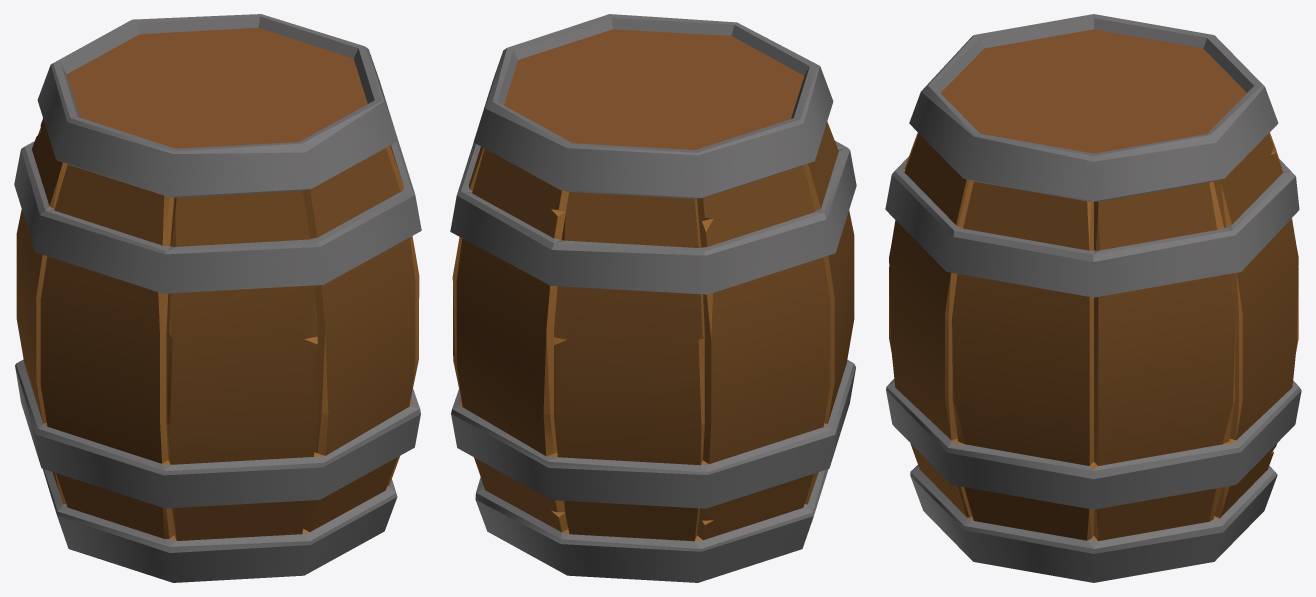
The model's file is BG_WoodBarrel_01.fbx.
The picture shows the model from 3 angles, left to right: view 1: azimuth 30°, elevation 25°; view 2: azimuth 150°, elevation 25°; view 3: azimuth 270°, elevation 25°; orthographic projection.
Parts seen in each view (by area): view 1: BG_WoodBarrel_01; view 2: BG_WoodBarrel_01; view 3: BG_WoodBarrel_01.
Boxes of the visible parts, box(x1,y1,x2,y2) form: BG_WoodBarrel_01: box(14, 14, 421, 582); BG_WoodBarrel_01: box(450, 14, 856, 582); BG_WoodBarrel_01: box(885, 14, 1301, 582).
Size of the model in its own units: 8.91 by 10.03 by 8.9.
